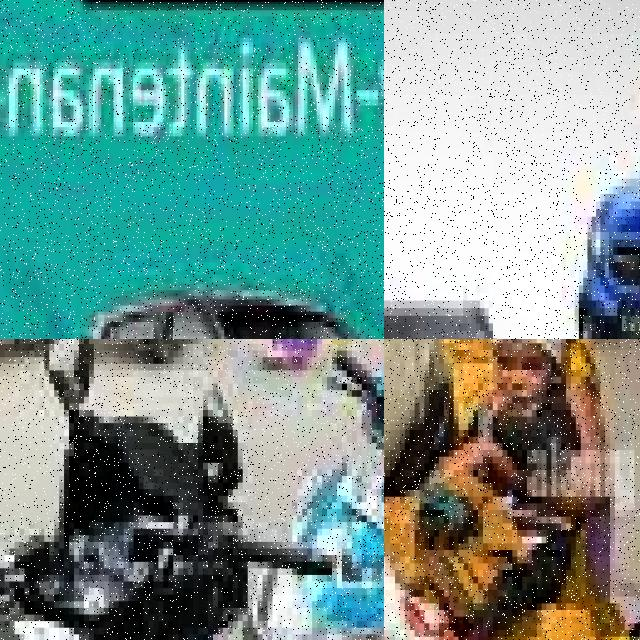bike: (0, 397, 257, 640), (213, 350, 384, 640), (384, 470, 640, 640)
car: (518, 0, 640, 339), (384, 224, 583, 339)
